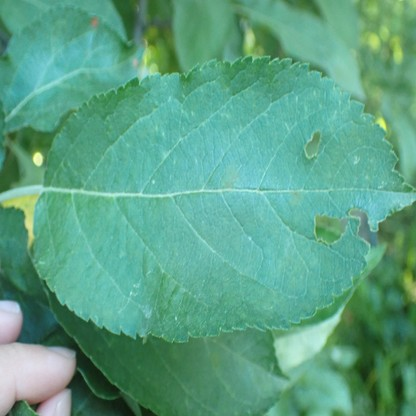frogeye_leaf_spot: (91, 17, 98, 28)
scab: (160, 271, 275, 321), (287, 260, 305, 295), (321, 259, 341, 280), (220, 167, 237, 191), (209, 351, 223, 378), (102, 299, 119, 320), (290, 190, 305, 204)
